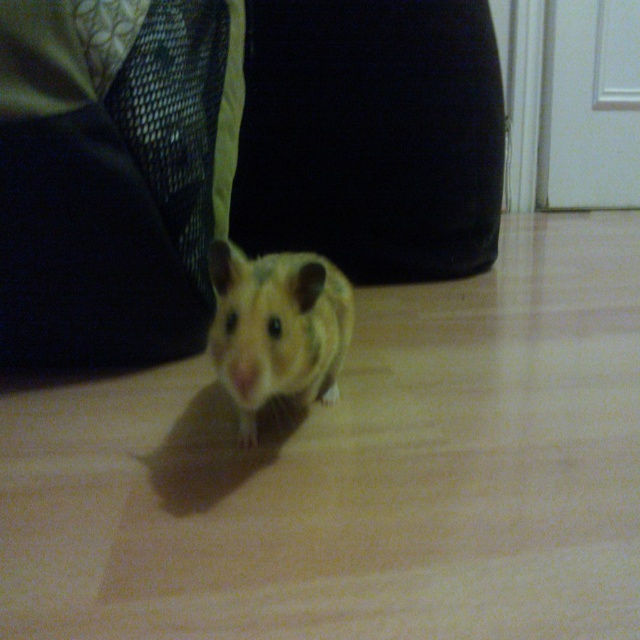Mouse: (210, 235, 356, 448)
